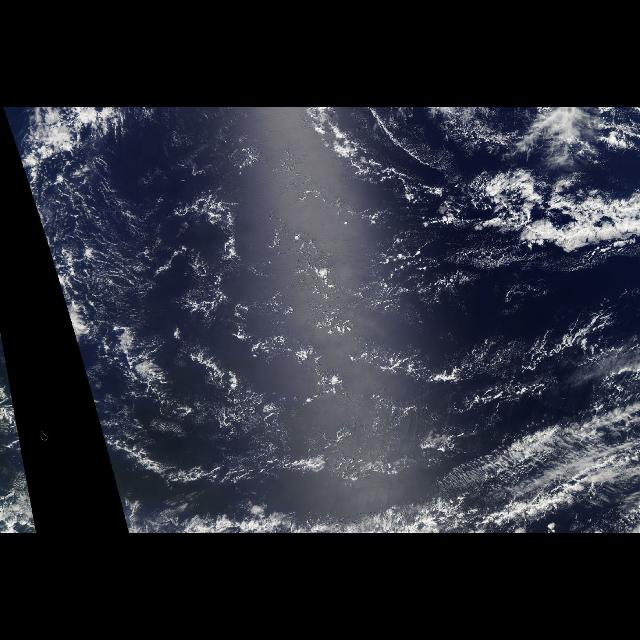Fish: (402, 397, 638, 531)
Gravel: (108, 113, 634, 513)
Sugar: (4, 112, 632, 484), (4, 348, 28, 484)
